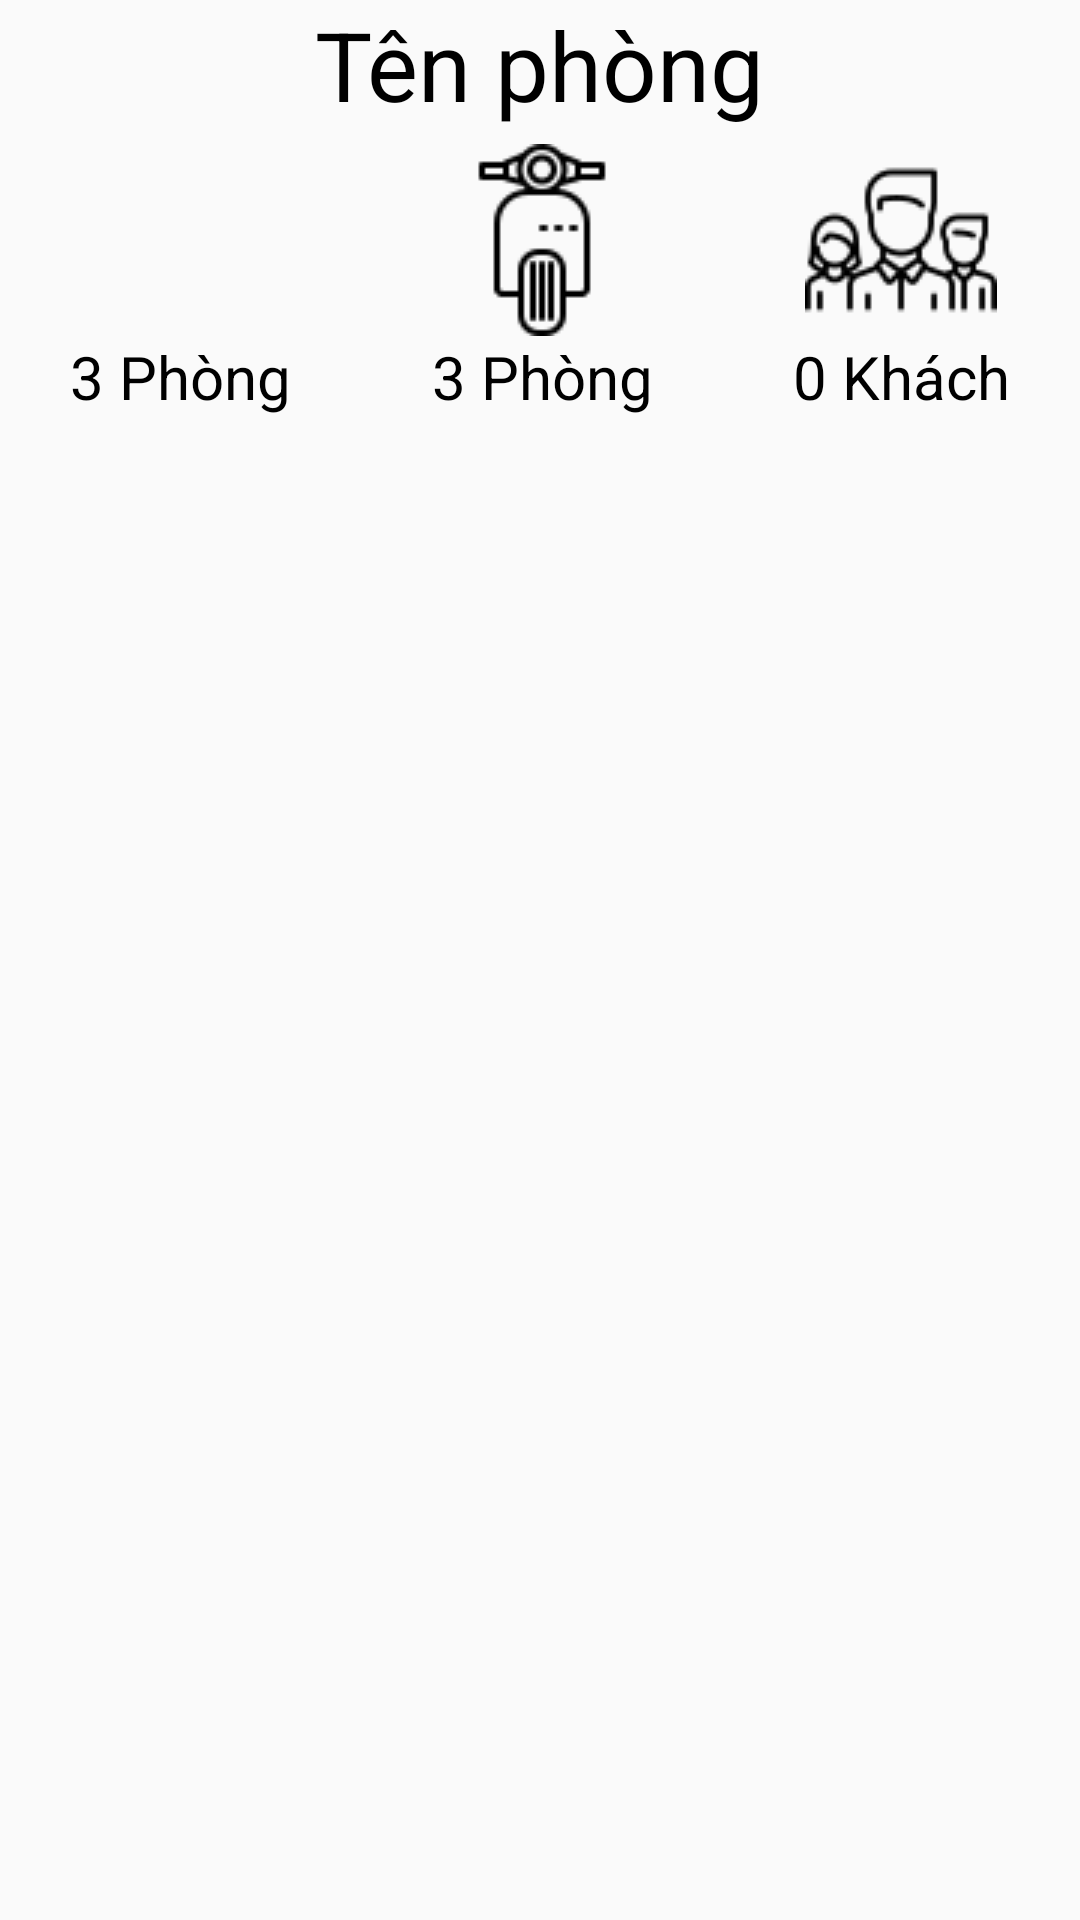

Named icons in this screenshot (1080 × 1920) and their bounding boxes, rect(x1, y1, x2, y2):
vehicle: rect(478, 144, 606, 336)
